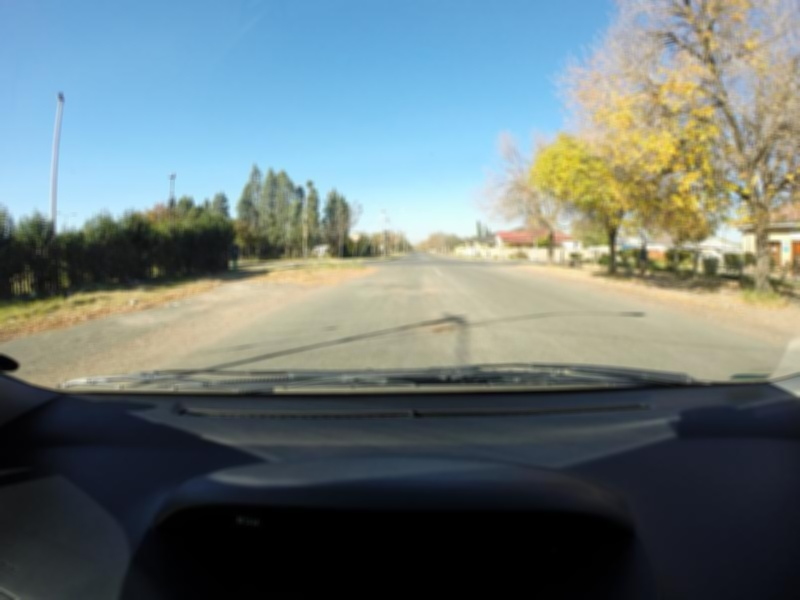pothole: (421, 318, 468, 340)
